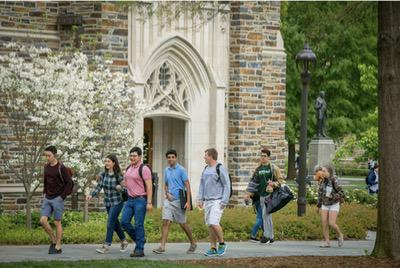without_mask: (129, 152, 139, 163), (44, 152, 54, 163), (166, 154, 175, 166), (104, 158, 113, 169), (260, 153, 267, 163), (203, 152, 209, 163), (321, 168, 327, 177)
